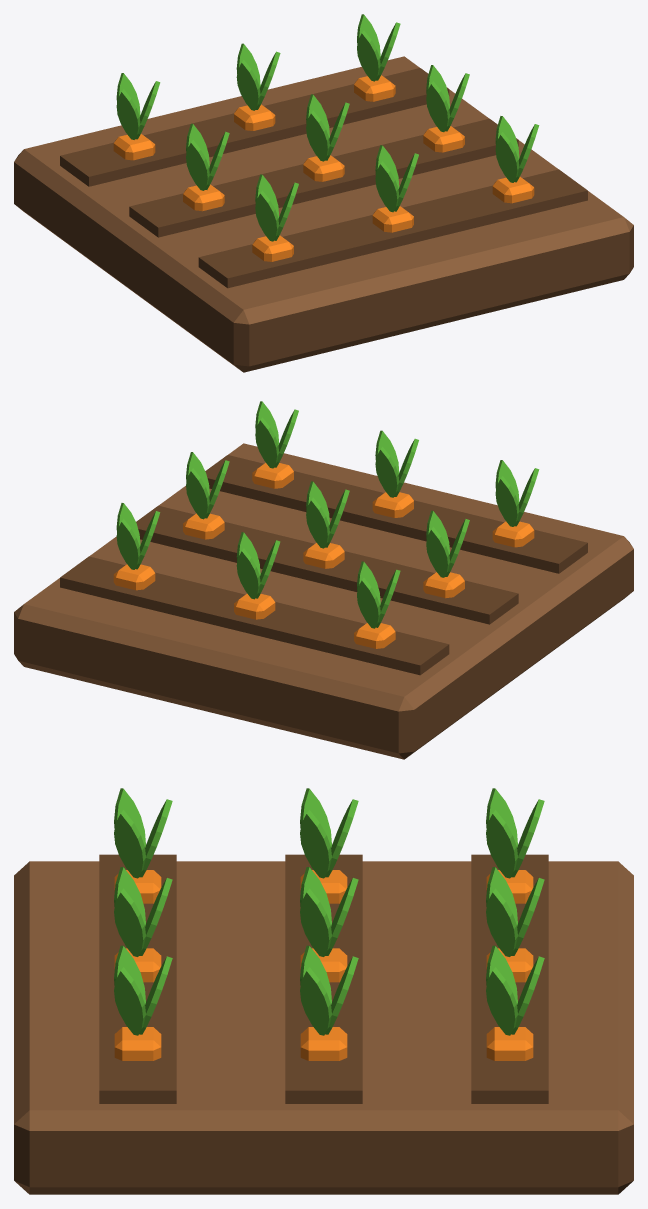
Rendered from CarrotPatch.fbx.
3 renders of one model, top to bottom at view 1: azimuth 30°, elevation 25°; view 2: azimuth 150°, elevation 25°; view 3: azimuth 270°, elevation 25°, orthographic. The views are drawn at different scales.
Visible parts, largest first — view 1: CarrotPatch; view 2: CarrotPatch; view 3: CarrotPatch.
Part boxes in pixels (<box>): CarrotPatch: <box>14,14,633,372</box>; CarrotPatch: <box>14,401,633,759</box>; CarrotPatch: <box>14,788,633,1194</box>.
Bounding box in the file's own units: 4 × 1.37 × 4.
Materials: 1 (1 with a texture image).
